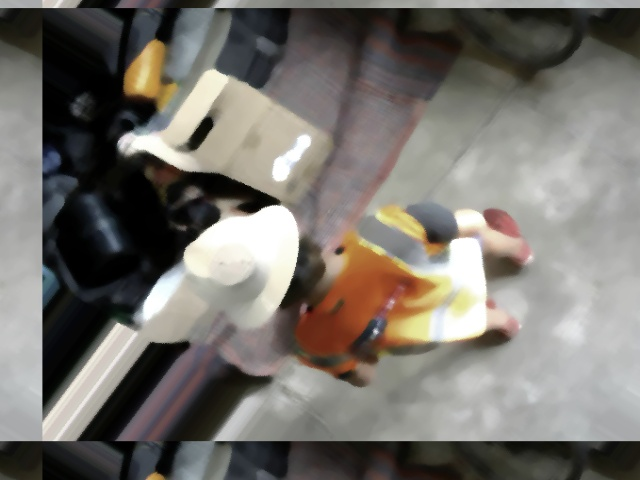one: (195, 230, 265, 295)
